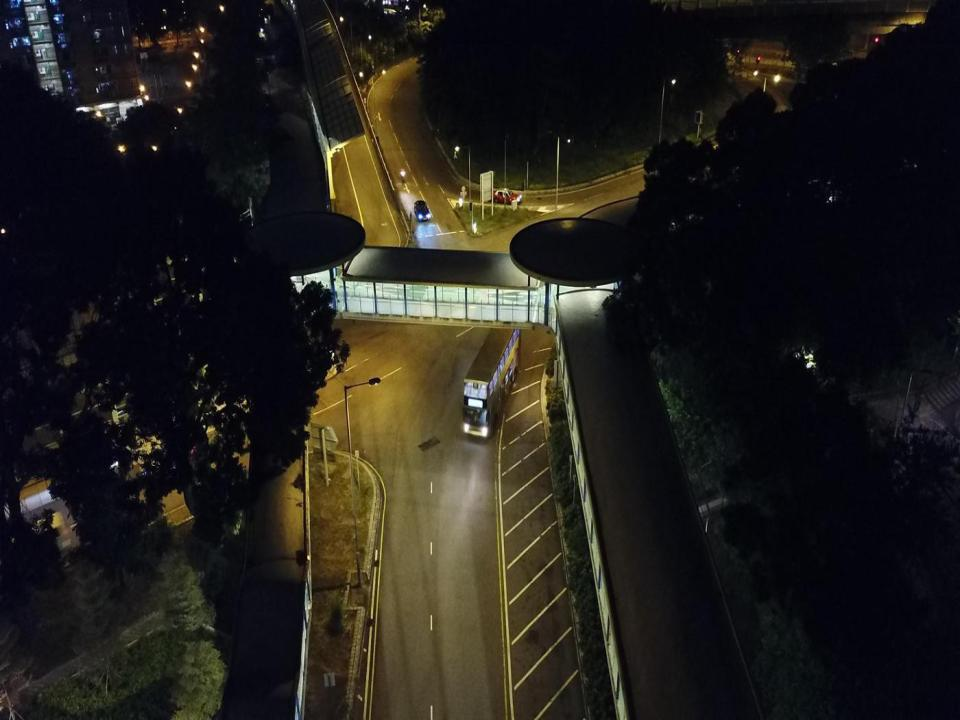bus: (462, 314, 521, 440)
car: (488, 186, 522, 206), (414, 199, 432, 222)
